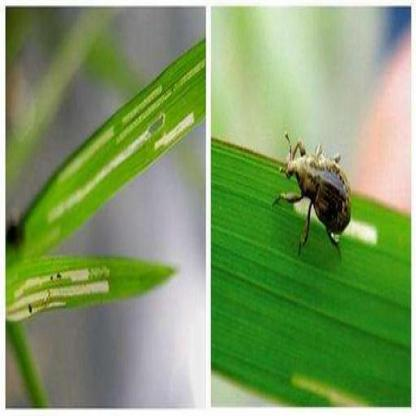rice-bug: (283, 139, 355, 251)
